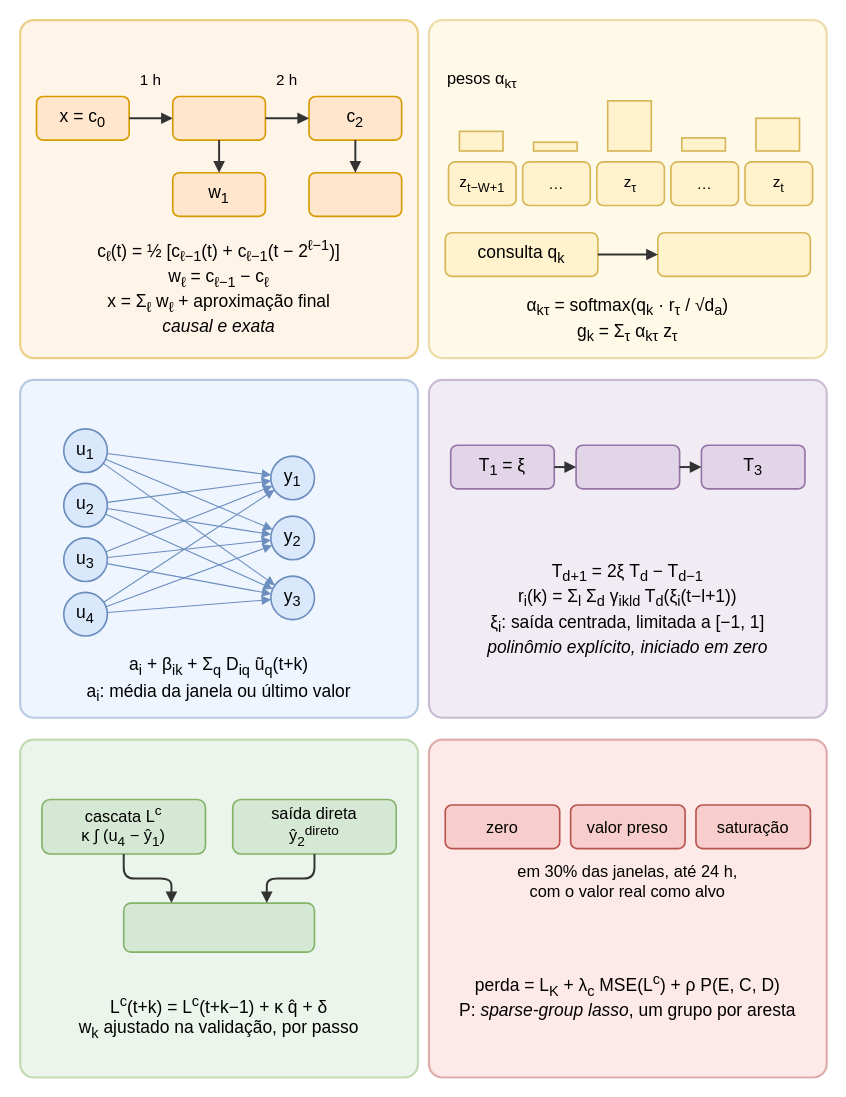
Image size: 846x1097. Some labels were removed from this diagram. The box of each missing label's shape, as (x1, y1, x2, y2) in pixels:
A. Decomposição wavelet: (19, 19, 419, 359)
B. Autoencoder com atenção: (427, 19, 827, 359)
c 1: (171, 95, 266, 140)
C. Ganhos diretos e referência: (19, 378, 419, 718)
contexto g k: (657, 231, 811, 277)
D. Resíduo de Chebyshev: (427, 378, 827, 718)
E. Nível com a cascata física: (19, 738, 419, 1078)
F. Treino: (427, 738, 827, 1078)
T 2: (575, 444, 680, 489)
w 2: (308, 171, 402, 217)
w k L c + (1−w k ) ŷ 2 direto: (122, 902, 315, 952)
